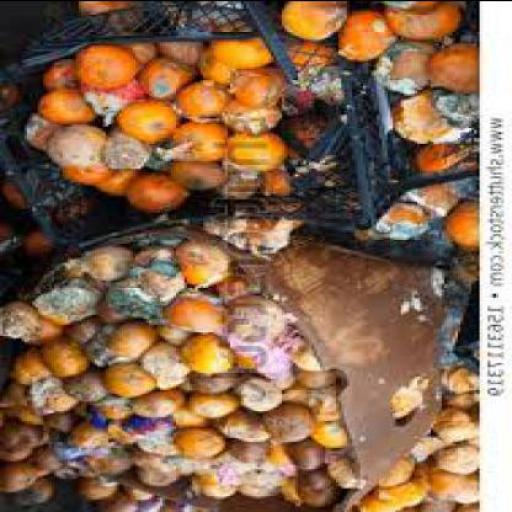biodegradable: (388, 87, 474, 138), (222, 295, 292, 354), (198, 214, 296, 256), (282, 120, 338, 188), (90, 310, 154, 366), (73, 75, 141, 127), (355, 460, 425, 510), (125, 240, 181, 300), (98, 275, 162, 322), (160, 286, 222, 334), (336, 6, 393, 58), (33, 275, 100, 319), (174, 235, 230, 287), (371, 39, 428, 90), (384, 2, 460, 40), (76, 42, 138, 88), (406, 456, 472, 499), (133, 54, 194, 99), (114, 96, 176, 140), (122, 168, 182, 210), (44, 121, 102, 163), (266, 318, 314, 368), (366, 197, 425, 237), (176, 448, 246, 481), (170, 118, 224, 160), (428, 39, 474, 88), (401, 177, 463, 212), (35, 82, 89, 122), (278, 2, 345, 34), (174, 78, 225, 120), (176, 331, 228, 372), (258, 400, 312, 439), (298, 64, 347, 106), (95, 357, 146, 397), (136, 338, 178, 386), (26, 370, 74, 412), (0, 412, 41, 460), (412, 138, 472, 170), (82, 243, 130, 283), (206, 36, 268, 66), (295, 462, 336, 507), (168, 424, 225, 456), (127, 379, 179, 414), (103, 126, 146, 168), (0, 379, 41, 423), (38, 335, 84, 374), (211, 407, 265, 439), (211, 270, 263, 302), (442, 195, 474, 246), (128, 449, 176, 483), (276, 106, 320, 143), (230, 376, 280, 408), (6, 344, 46, 383), (19, 109, 57, 149), (425, 440, 472, 472), (284, 36, 334, 66), (0, 298, 38, 337), (428, 404, 472, 437), (166, 158, 224, 183), (255, 342, 289, 384), (40, 397, 84, 429), (6, 470, 46, 504), (58, 364, 100, 396), (439, 352, 474, 390), (279, 435, 317, 470), (130, 425, 174, 455), (62, 416, 109, 444), (182, 389, 236, 413), (19, 313, 62, 343), (154, 36, 200, 64), (92, 164, 141, 190), (184, 470, 233, 496), (390, 373, 417, 420), (322, 450, 357, 485), (182, 365, 233, 389), (214, 164, 252, 196), (87, 440, 125, 472), (376, 448, 408, 485), (306, 415, 344, 445), (0, 458, 38, 488), (146, 139, 181, 171), (38, 56, 73, 88), (282, 75, 309, 116), (56, 161, 110, 181), (71, 470, 114, 495), (444, 248, 476, 280), (306, 384, 338, 416), (117, 466, 151, 496), (241, 460, 282, 483), (409, 431, 441, 460), (17, 224, 46, 256), (92, 300, 124, 329), (87, 391, 127, 414), (122, 414, 171, 432), (263, 436, 292, 466), (92, 489, 133, 510), (290, 364, 333, 384), (73, 1, 139, 14), (186, 493, 234, 510), (195, 56, 227, 81), (171, 401, 203, 425), (57, 256, 87, 281), (62, 311, 87, 341), (439, 387, 474, 408), (225, 437, 260, 458), (125, 38, 154, 62), (158, 321, 187, 345), (258, 164, 284, 190), (224, 345, 252, 369), (158, 487, 187, 510), (274, 471, 296, 501), (233, 479, 274, 495), (105, 414, 130, 440), (418, 493, 456, 510), (0, 175, 22, 204), (377, 1, 443, 10), (49, 456, 78, 476), (0, 77, 16, 111), (279, 384, 306, 400), (135, 489, 155, 510), (242, 497, 268, 510), (452, 498, 474, 510), (352, 225, 368, 237)
cardboard: (355, 235, 441, 479), (293, 232, 354, 318), (311, 319, 352, 360), (242, 256, 296, 272), (333, 360, 355, 397), (263, 272, 292, 292), (341, 482, 363, 508), (344, 397, 355, 429), (279, 246, 292, 256), (282, 293, 289, 308), (350, 429, 354, 442)
